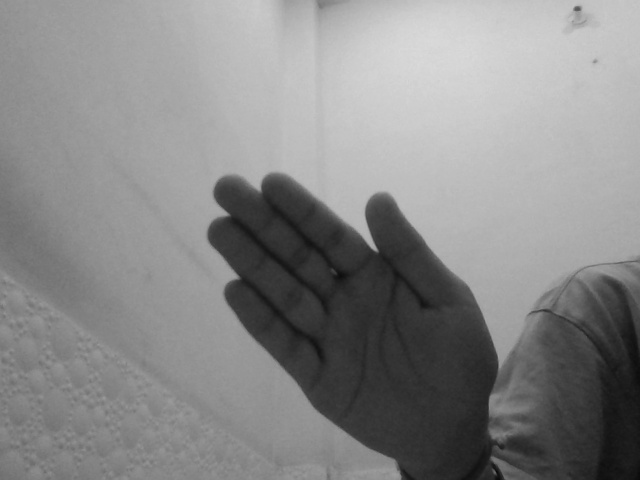Hello: (206, 169, 505, 463)
